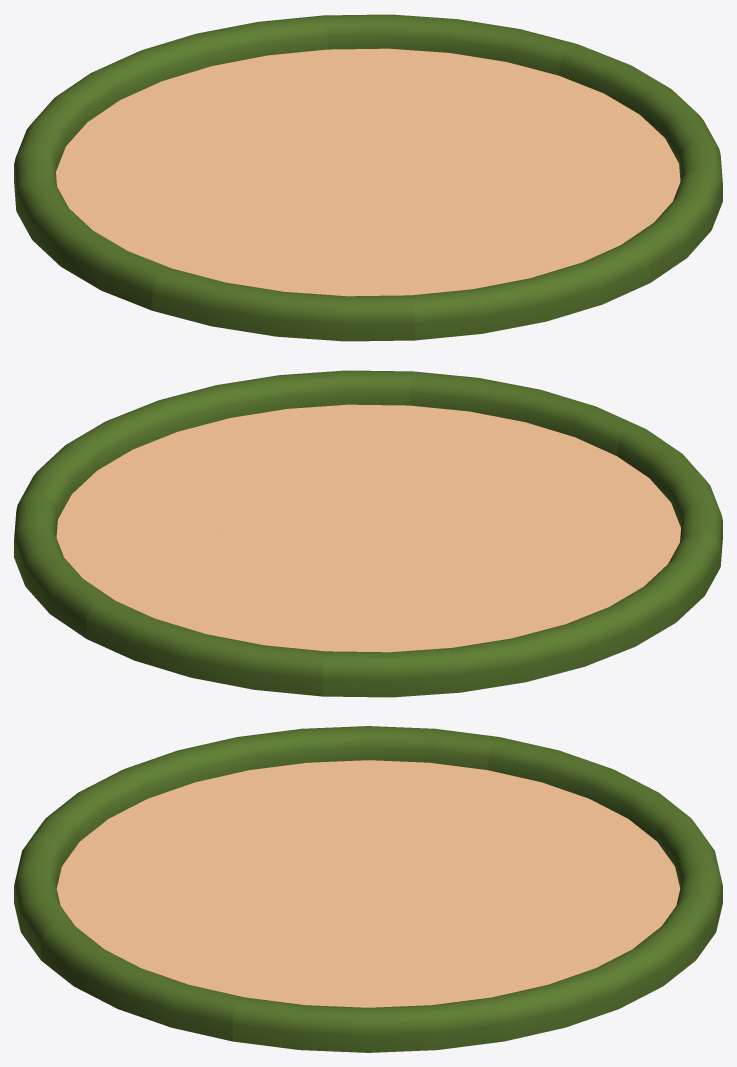
File: Dough Classic B.fbx
3 renders of one model, top to bottom at view 1: azimuth 30°, elevation 25°; view 2: azimuth 150°, elevation 25°; view 3: azimuth 270°, elevation 25°, orthographic.
Parts seen in each view (by area): view 1: Dough.111, Dough.107, Dough.110, Dough.106, Dough.112, Dough.108, Dough.109, Dough.113; view 2: Dough.113, Dough.109, Dough.106, Dough.110, Dough.112, Dough.108, Dough.107, Dough.111; view 3: Dough.112, Dough.108, Dough.107, Dough.109, Dough.111, Dough.113, Dough.106, Dough.110.
Part boxes in pixels (bbox=[...]): Dough.111: bbox=[152, 181, 414, 341]; Dough.107: bbox=[323, 14, 577, 180]; Dough.110: bbox=[368, 181, 650, 340]; Dough.106: bbox=[96, 15, 368, 180]; Dough.112: bbox=[16, 176, 367, 310]; Dough.108: bbox=[369, 44, 718, 180]; Dough.109: bbox=[369, 140, 722, 282]; Dough.113: bbox=[14, 71, 367, 209]; Dough.113: bbox=[322, 537, 584, 697]; Dough.109: bbox=[159, 370, 413, 536]; Dough.106: bbox=[86, 537, 368, 696]; Dough.110: bbox=[368, 371, 640, 536]; Dough.112: bbox=[369, 532, 720, 666]; Dough.108: bbox=[18, 400, 367, 536]; Dough.107: bbox=[14, 496, 367, 638]; Dough.111: bbox=[369, 427, 722, 565]; Dough.112: bbox=[237, 726, 499, 891]; Dough.108: bbox=[233, 892, 503, 1052]; Dough.107: bbox=[369, 892, 695, 1041]; Dough.109: bbox=[41, 892, 367, 1041]; Dough.111: bbox=[46, 737, 367, 891]; Dough.113: bbox=[369, 737, 690, 891]; Dough.106: bbox=[369, 815, 722, 959]; Dough.110: bbox=[14, 815, 367, 959].
Size of the model in its own units: 2 by 0.1032 by 2.
